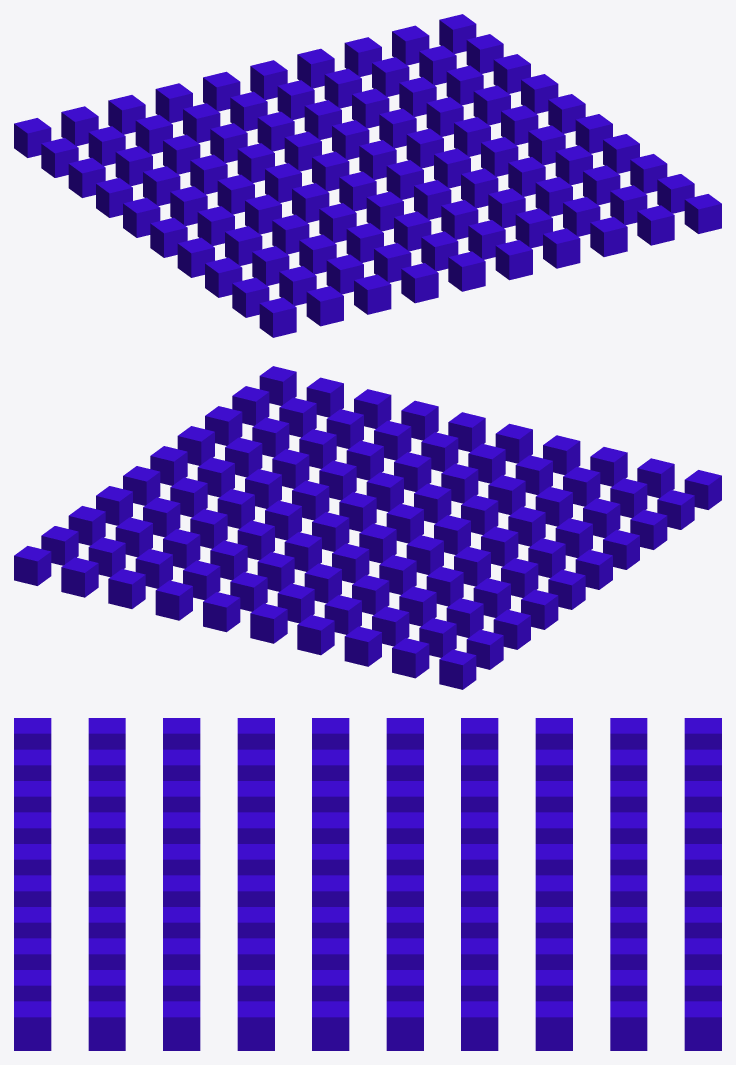
File: sponza_seperated.glb
3 views of the same model, one above another, from view 1: azimuth 30°, elevation 25°; view 2: azimuth 150°, elevation 25°; view 3: azimuth 270°, elevation 25° (orthographic). The views are drawn at different scales.
Parts seen in each view (by area): view 1: Cube, Cube.006, Cube.001, Cube.004, Cube.008, Cube.002, Cube.003, Cube.005, Cube.007, Cube.009, Cube.020, Cube.030 (+88 smaller); view 2: Cube.090, Cube.096, Cube.091, Cube.094, Cube.098, Cube.092, Cube.093, Cube.095, Cube.097, Cube.099, Cube.060, Cube.070 (+88 smaller); view 3: Cube.009, Cube.019, Cube.029, Cube.039, Cube.049, Cube.059, Cube.069, Cube.079, Cube.089, Cube.099, Cube, Cube.003 (+88 smaller).
Boxes of the visible parts, x1,y1,x2,y2 form: Cube: (259,297,296,337); Cube.006: (543,228,580,268); Cube.001: (306,286,343,326); Cube.004: (448,251,485,291); Cube.008: (637,205,674,245); Cube.002: (354,274,391,314); Cube.003: (401,263,438,303); Cube.005: (495,240,532,280); Cube.007: (590,217,627,256); Cube.009: (684,194,721,233); Cube.020: (205,257,242,297); Cube.030: (177,237,214,277); Cube.090: (439,649,476,689); Cube.096: (155,580,192,620); Cube.091: (392,638,429,678); Cube.094: (250,603,287,643); Cube.098: (61,557,98,597); Cube.092: (344,626,381,666); Cube.093: (297,615,334,655); Cube.095: (203,592,240,632); Cube.097: (108,569,145,608); Cube.099: (14,546,51,585); Cube.060: (521,589,558,629); Cube.070: (493,609,530,649); Cube.009: (14,1001,51,1050); Cube.019: (88,1001,125,1050); Cube.029: (163,1001,200,1050); Cube.039: (237,1001,274,1050); Cube.049: (312,1001,349,1050); Cube.059: (386,1001,423,1050); Cube.069: (461,1001,498,1050); Cube.079: (535,1001,572,1050); Cube.089: (610,1001,647,1050); Cube.099: (684,1001,721,1050); Cube: (14,718,51,749); Cube.003: (14,812,51,843).
Size of the model in its own units: 38 by 2 by 38.
